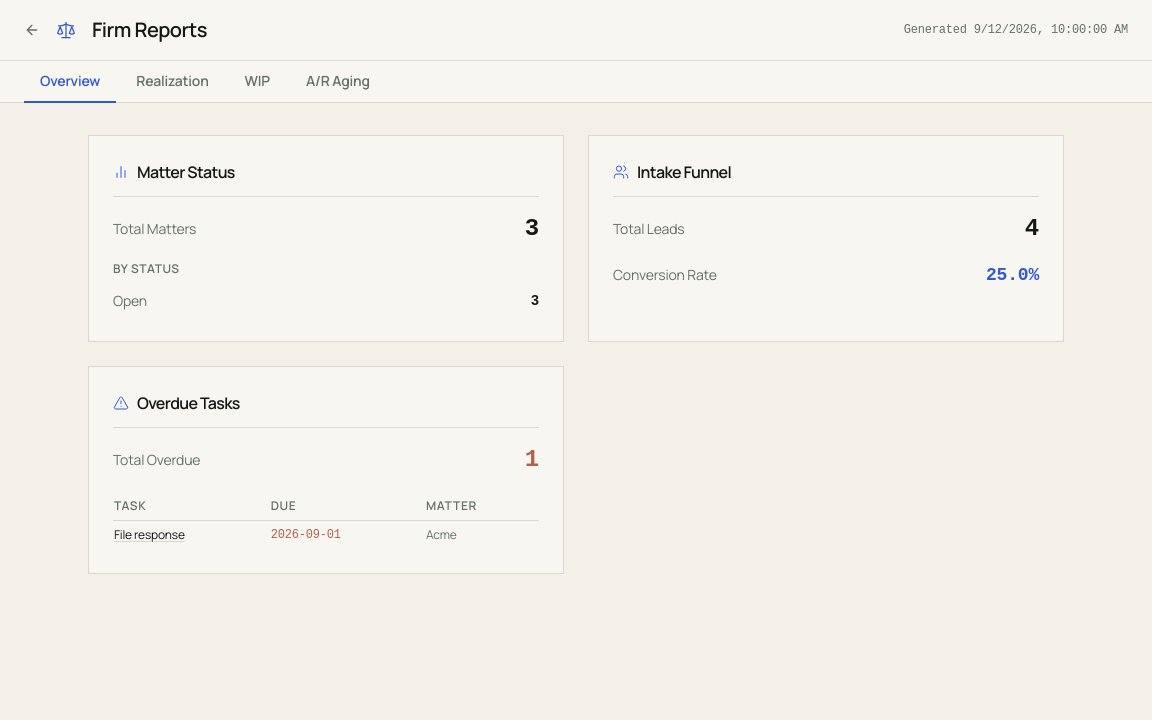
it: ReportsPage › shows a Current column so not-yet-due invoices are not read as late
This screenshot has width=1152, height=720.
Click the tab "A/R Aging" at [338, 82], box left=290, top=61, right=386, bottom=103
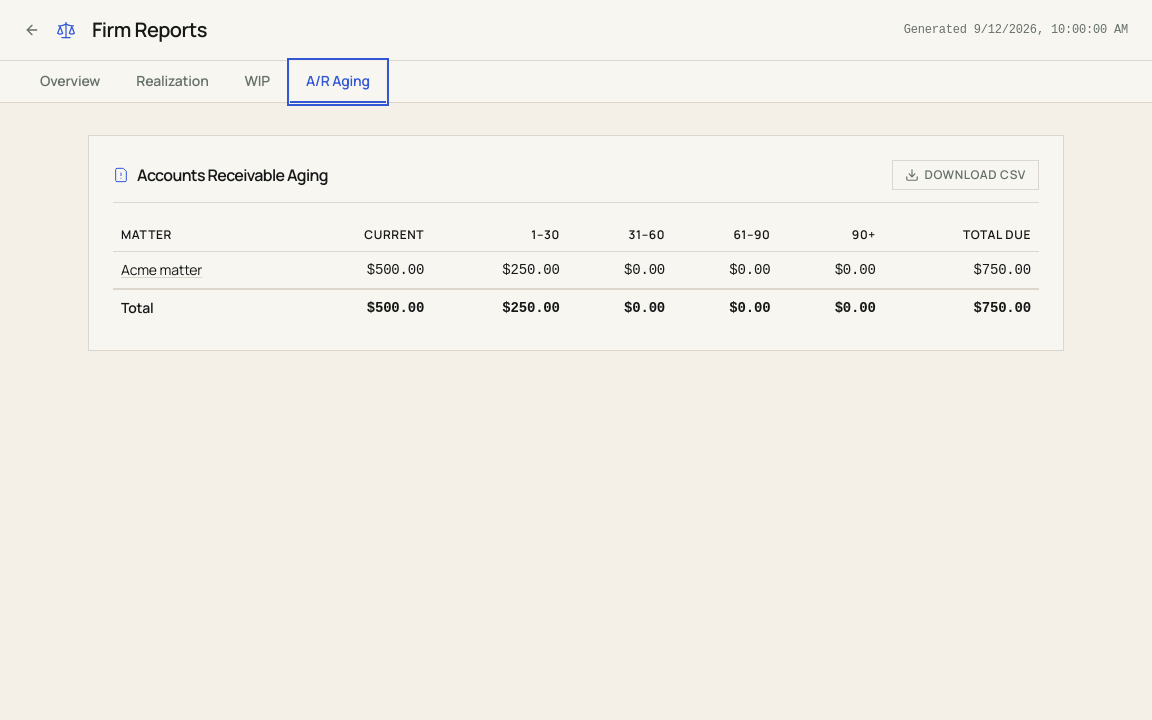
Expected: the button "Current" is shown, left=364, top=227, right=424, bottom=243
Expected: the text "$500.00" next to "Acme matter" is shown, left=367, top=262, right=424, bottom=278
Expected: the text "$250.00" in the row of "Acme matter" is shown, left=502, top=262, right=560, bottom=278
